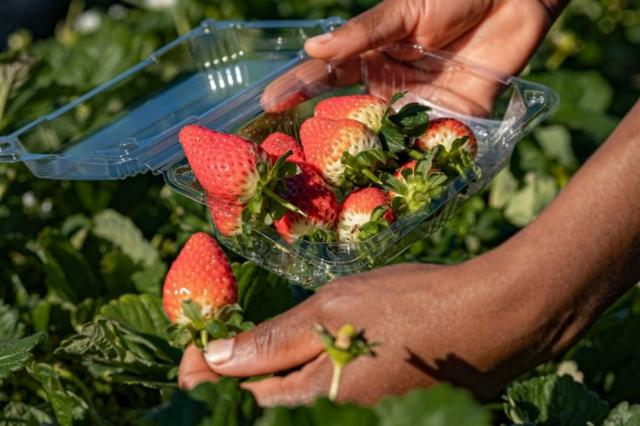Strawberries: (160, 233, 237, 339), (178, 123, 274, 201), (302, 117, 382, 185), (336, 186, 392, 254), (314, 94, 400, 132), (412, 118, 478, 166)
